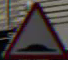Speed Breaker ahead: (7, 8, 60, 51)
